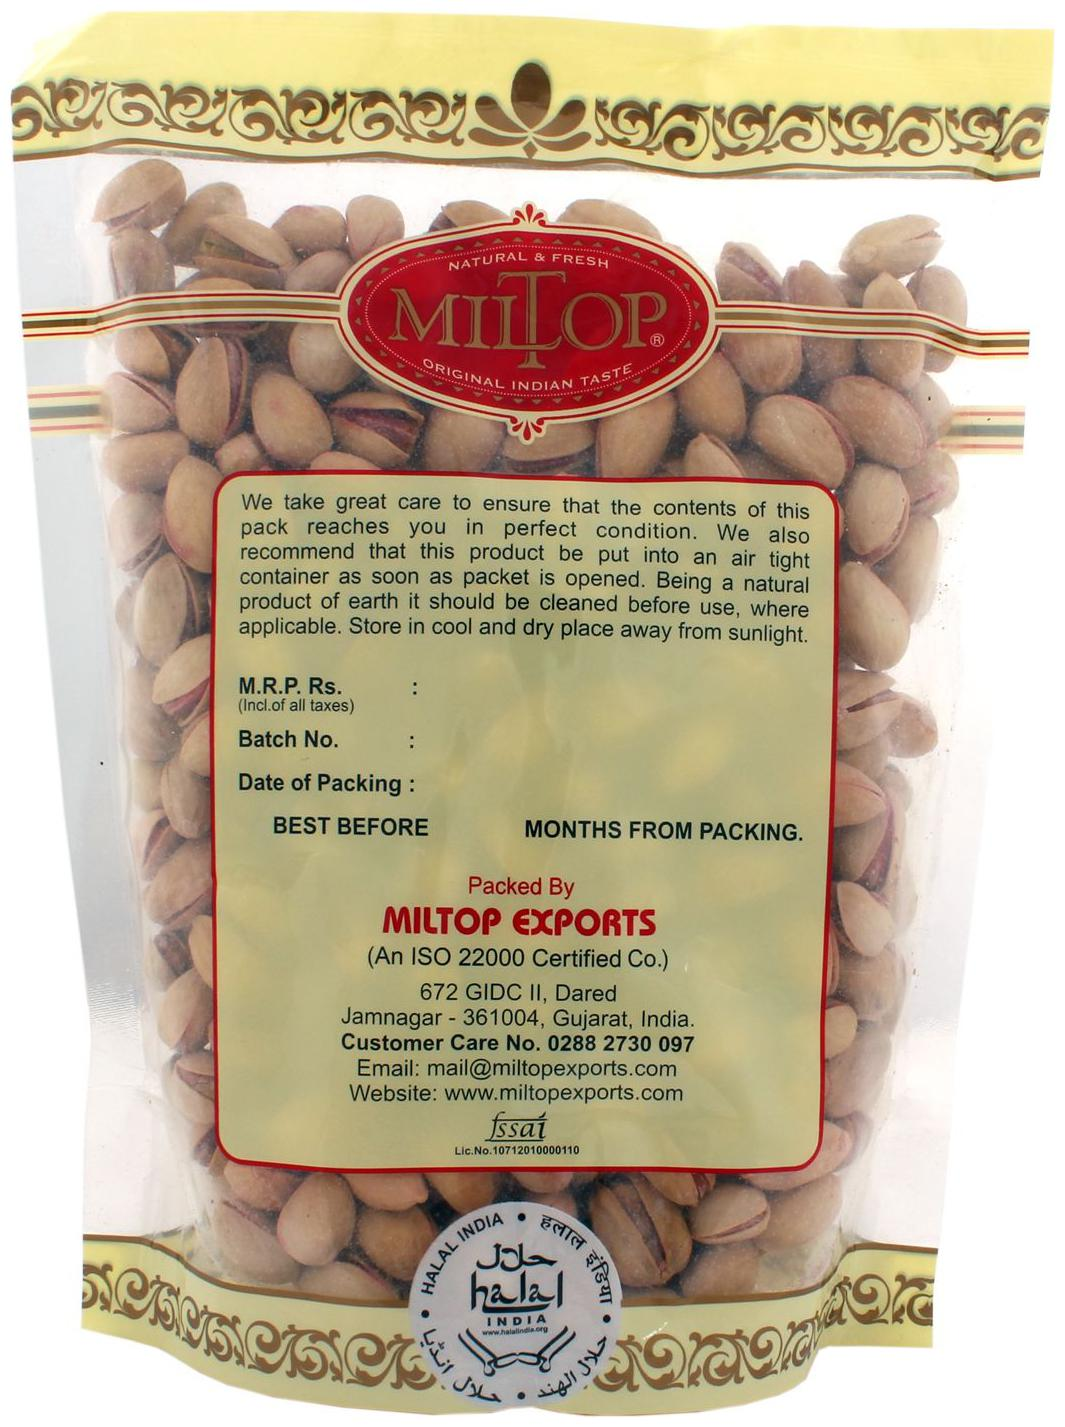fssai: (482, 1109, 549, 1141)
